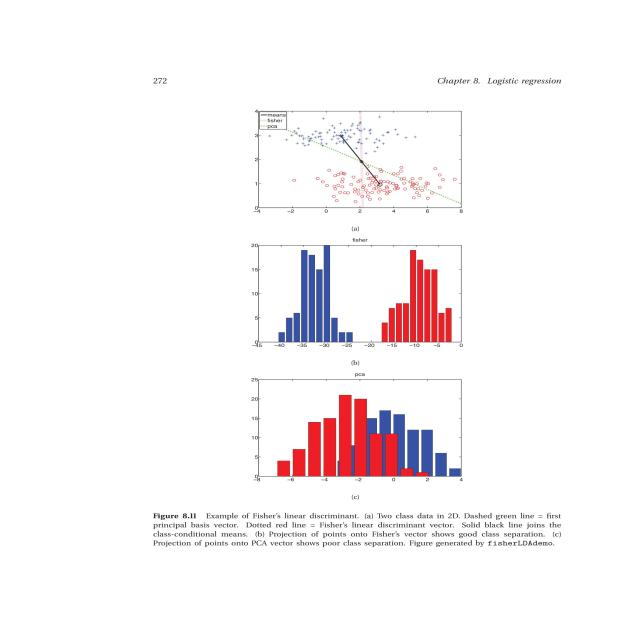diagram: (120, 97, 640, 591)
